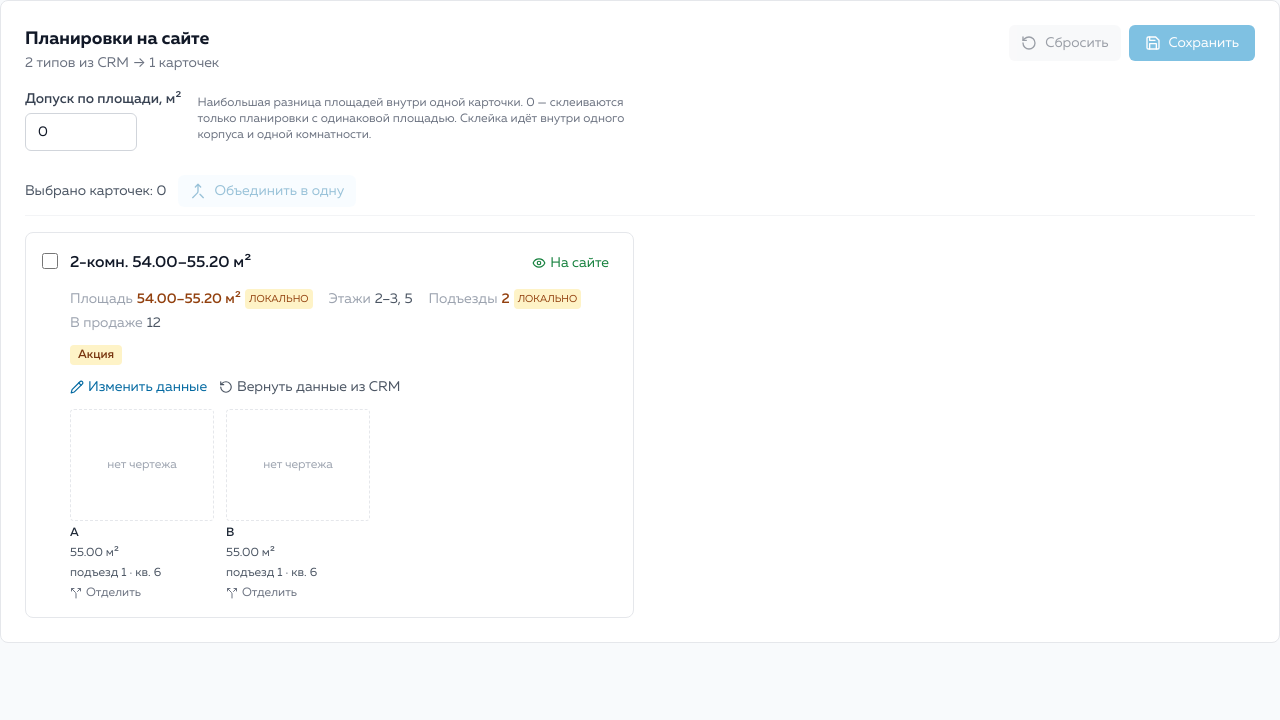
PlanGroupingPanel — группа › «Вернуть данные из CRM» снимает ручные данные группы, бейджи остаются
Expected: the 1st text "локально" is shown, x1=245 y1=289 x2=312 y2=309
Expected: the text "Акция" is shown, x1=70 y1=345 x2=122 y2=365
Click the button "Вернуть данные из CRM" at (310, 387), box x1=219 y1=377 x2=400 y2=397
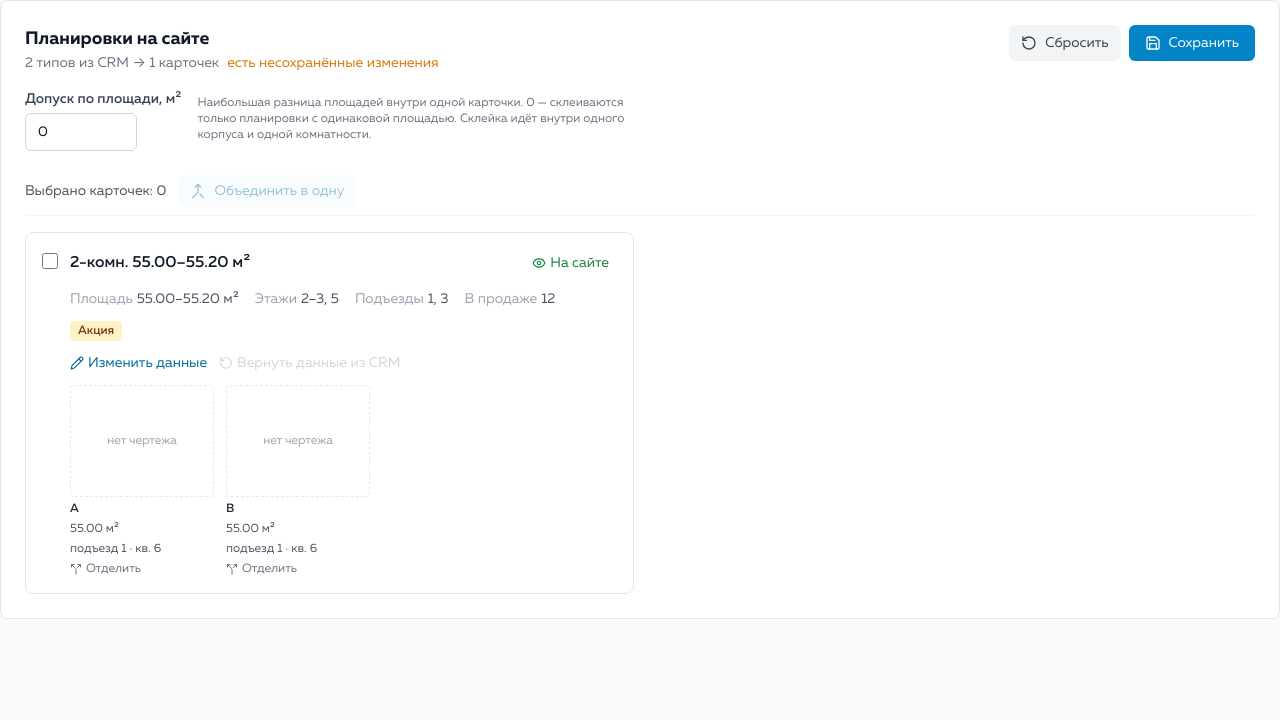
Expected: the button "Вернуть данные из CRM" is disabled, x1=219 y1=353 x2=400 y2=373
